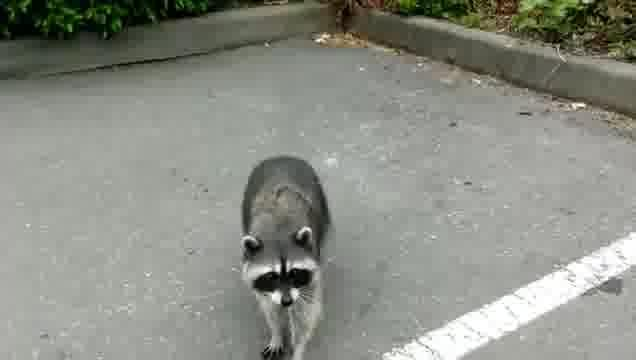raccoon: (236, 150, 336, 360)
